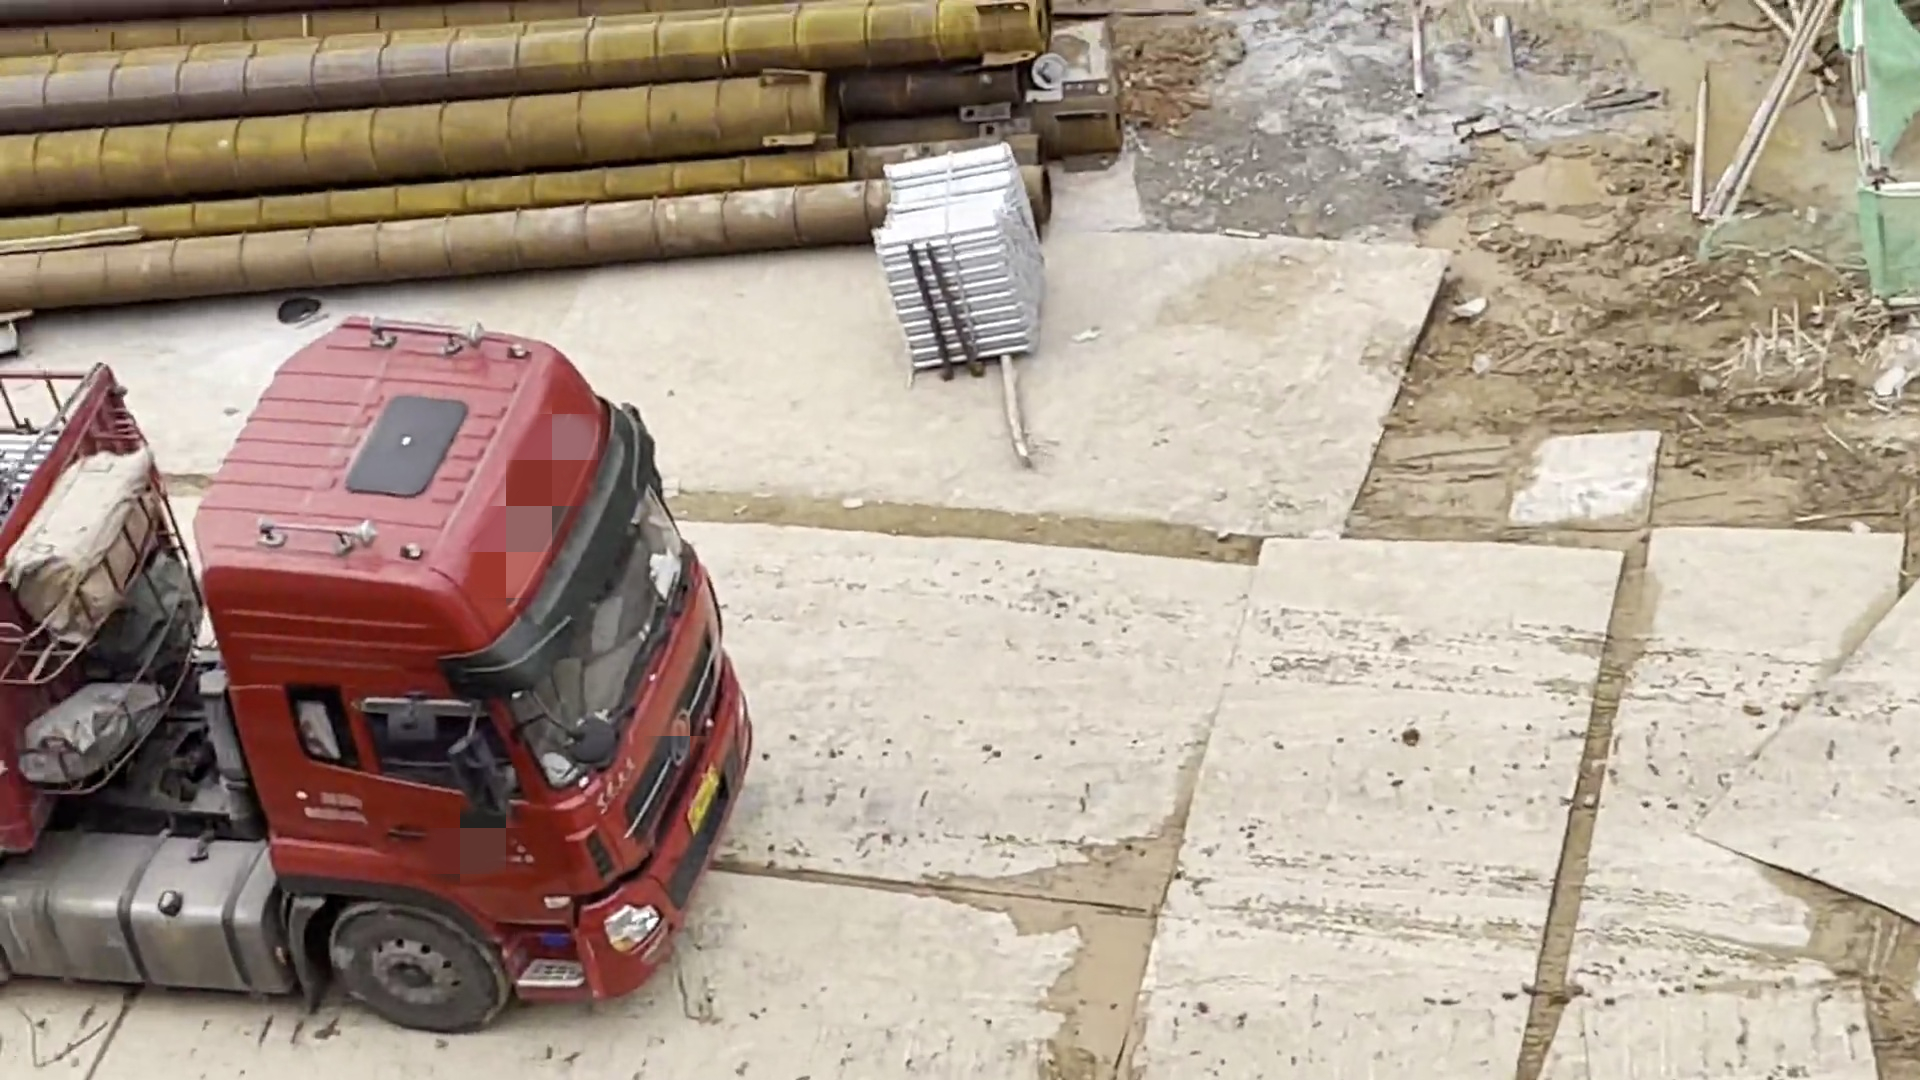scaffold: (833, 141, 1076, 392), (1, 404, 61, 492)
